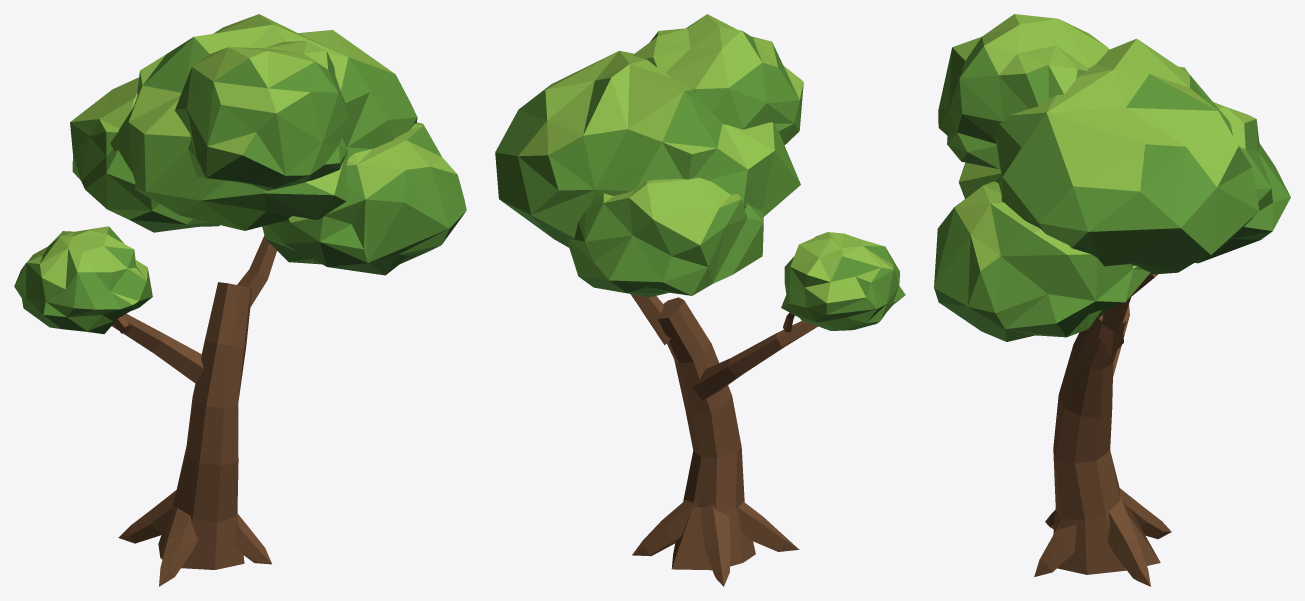
Rendered from Veg_Eiche_B.fbx.
3 renders of one model, left to right at view 1: azimuth 30°, elevation 25°; view 2: azimuth 150°, elevation 25°; view 3: azimuth 270°, elevation 25°, orthographic. The views are drawn at different scales.
Visible parts, largest first — view 1: Veg_Eiche_B; view 2: Veg_Eiche_B; view 3: Veg_Eiche_B.
Part boxes in pixels (x1,y1,x2,y2): Veg_Eiche_B: (14,14,466,586); Veg_Eiche_B: (495,14,905,586); Veg_Eiche_B: (934,14,1290,586).
Size of the model in its own units: 4 by 5 by 2.95.
